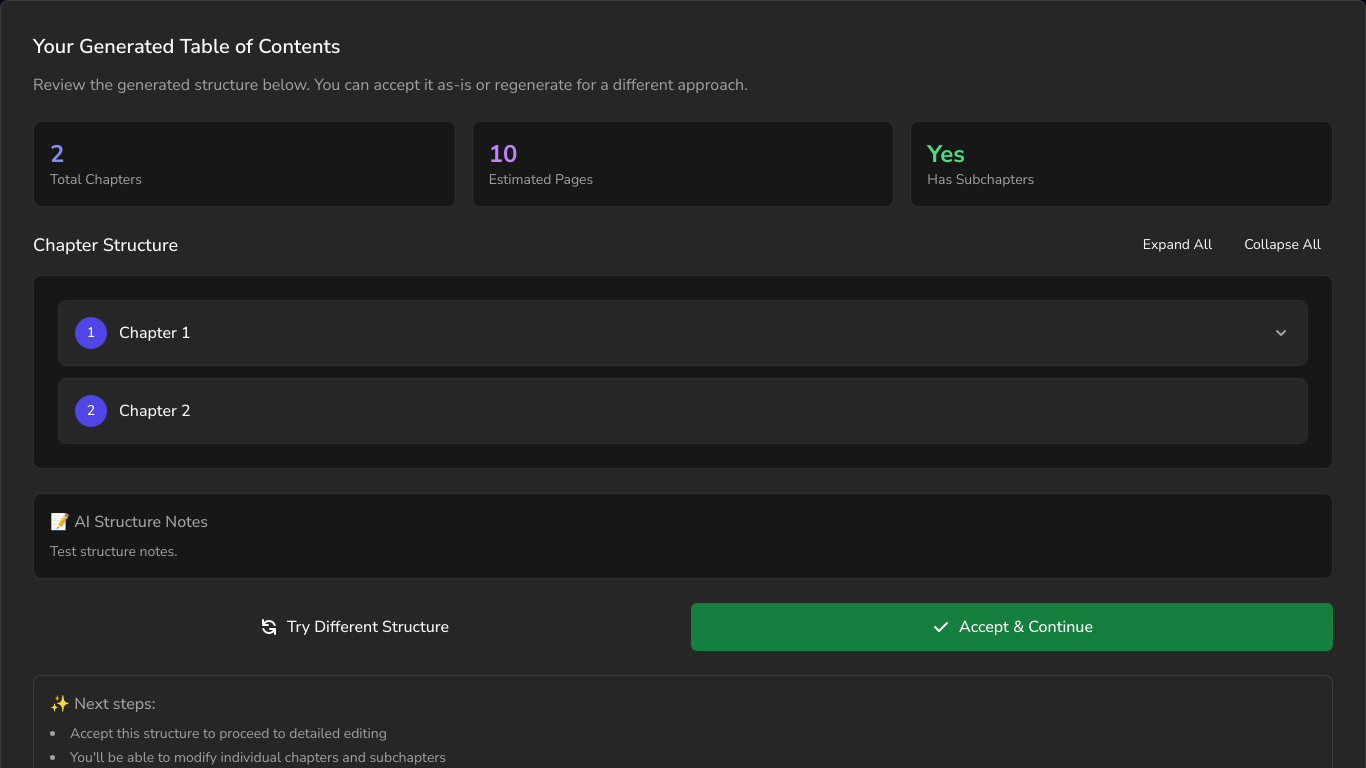
Test case: TocReview structure rendering › displays top-level chapters and reveals subchapters on expand
Expected: the heading "Chapter 1" is shown, [119, 321, 191, 345]
Expected: the heading "Chapter 2" is shown, [119, 399, 191, 423]
Click the text "1 Chapter 1": (683, 333) [59, 301, 1307, 365]
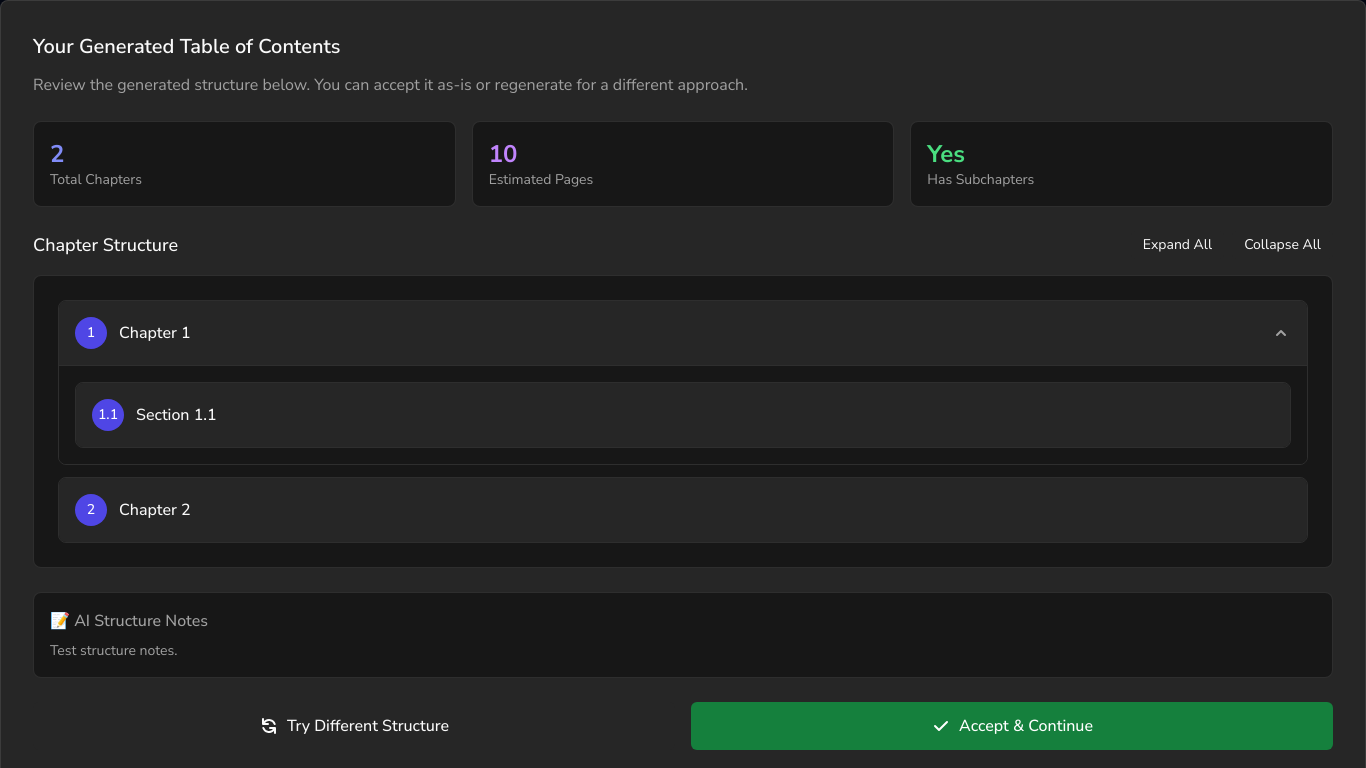
Now the heading "Section 1.1" is shown, box [136, 403, 217, 427]
